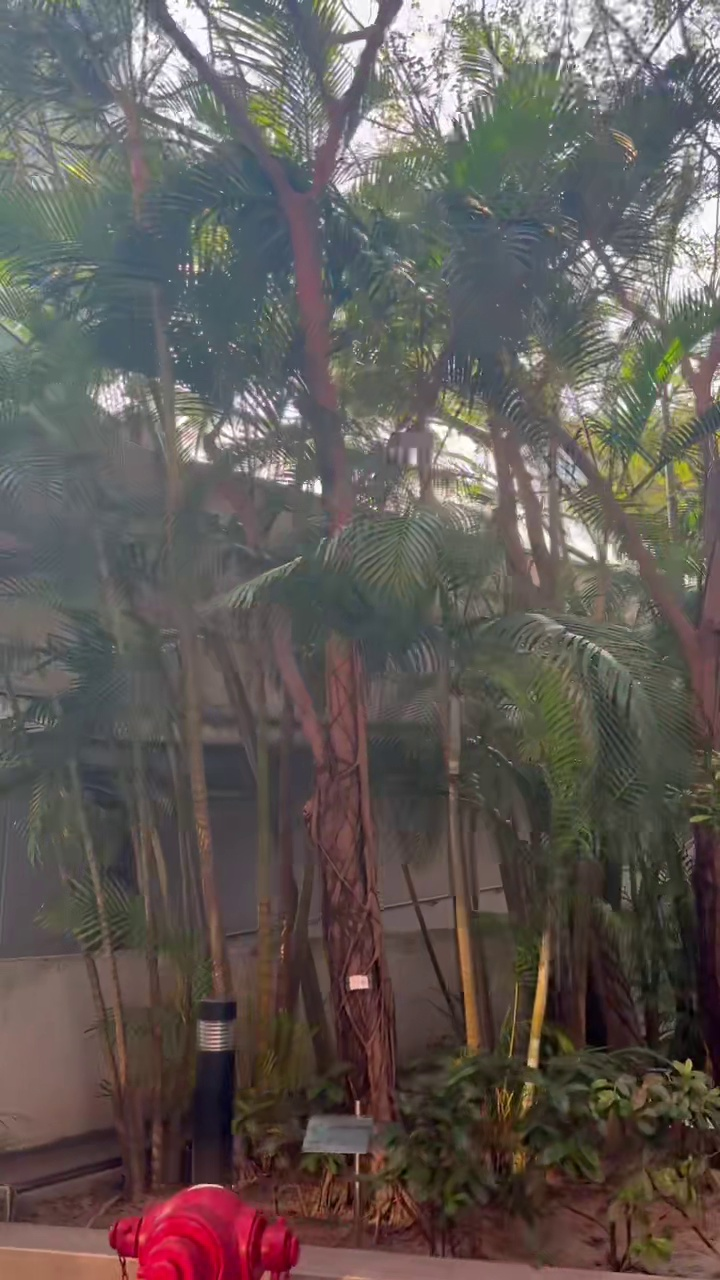Ficus benjamina: (149, 0, 401, 1119)
